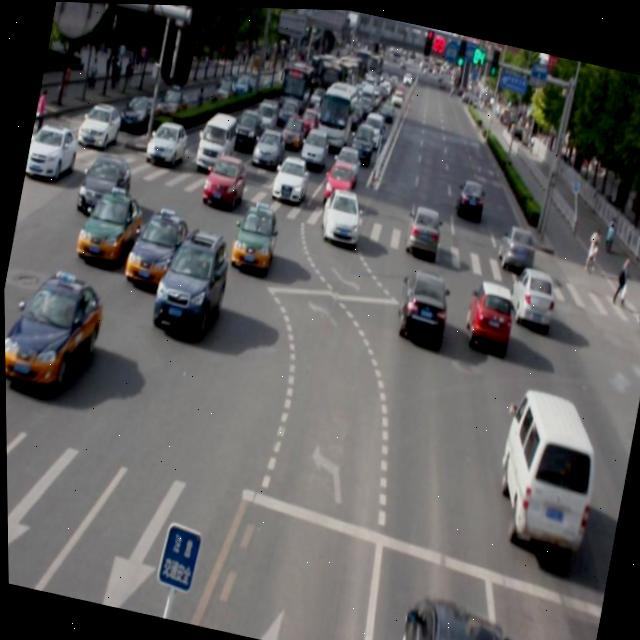car: (3, 260, 109, 402), (149, 220, 234, 338), (393, 588, 519, 640), (121, 201, 192, 292), (74, 182, 143, 269), (393, 264, 454, 343), (460, 273, 517, 351), (228, 199, 281, 272), (505, 260, 559, 324), (199, 146, 249, 212), (317, 182, 366, 246), (402, 198, 444, 255), (495, 218, 536, 270)
truck: (485, 381, 605, 548)
